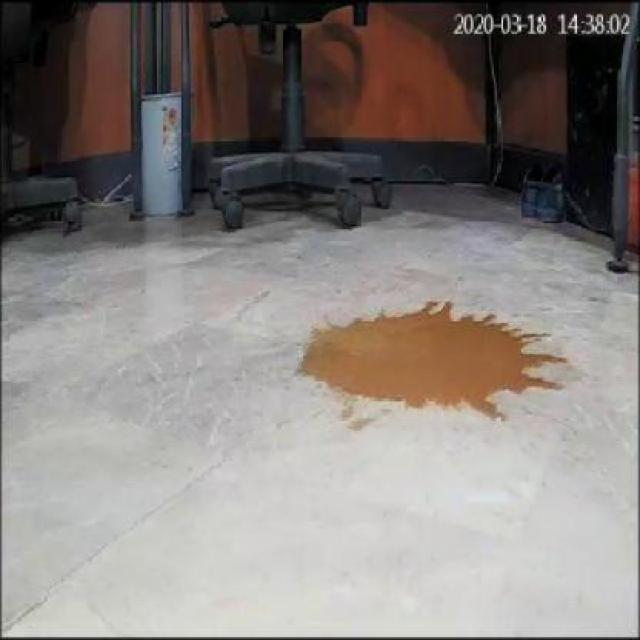spillage: (297, 304, 565, 419)
